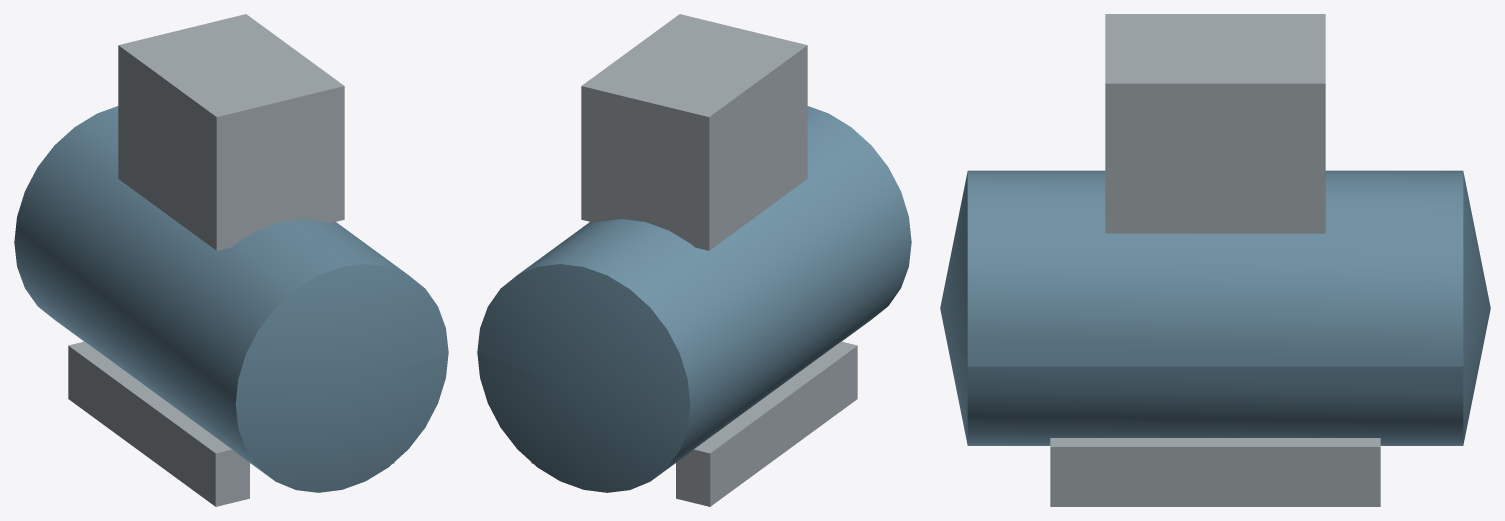
Rendered from long-haul-trucking-and-truck-stop-air-compressor-cb025139__14008.glb.
The picture shows the model from 3 angles, left to right: view 1: azimuth 30°, elevation 25°; view 2: azimuth 150°, elevation 25°; view 3: azimuth 270°, elevation 25°; orthographic projection. The views are drawn at different scales.
Visible parts, largest first — view 1: air-compressor; view 2: air-compressor; view 3: air-compressor.
Part boxes in pixels (<box>): air-compressor: <box>14,14,448,506</box>; air-compressor: <box>477,14,911,506</box>; air-compressor: <box>940,14,1490,506</box>.
Bounding box in the file's own units: 0.5001 × 0.82 × 1.
